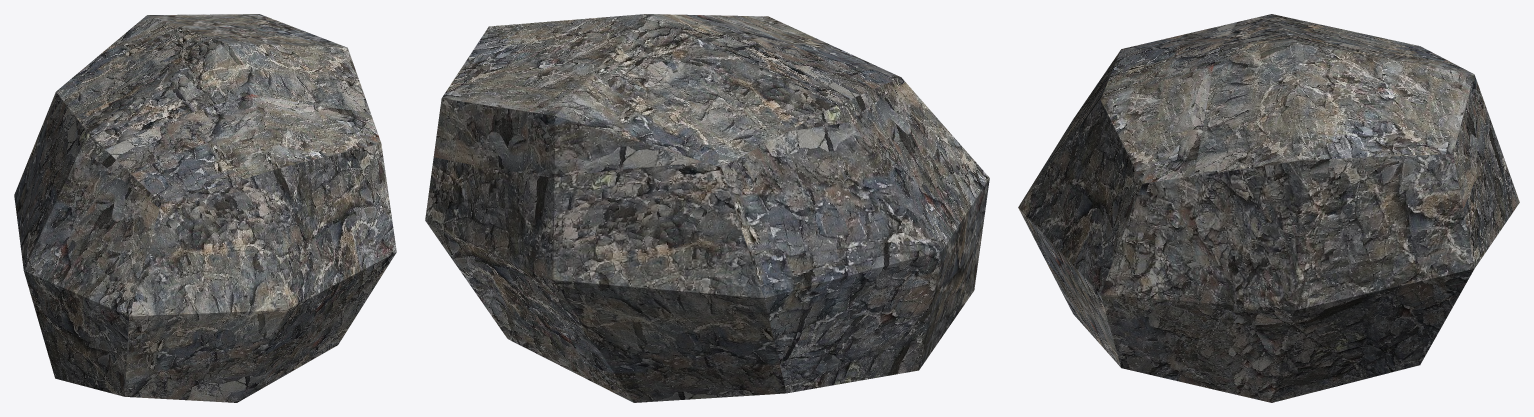
Rendered from rock.obj.
3 renders of one model, left to right at view 1: azimuth 30°, elevation 25°; view 2: azimuth 150°, elevation 25°; view 3: azimuth 270°, elevation 25°, orthographic. The views are drawn at different scales.
Parts seen in each view (by area): view 1: Cube; view 2: Cube; view 3: Cube.
Boxes of the visible parts, x1=… form: Cube: x1=14, y1=14, x2=396, y2=402; Cube: x1=425, y1=14, x2=989, y2=402; Cube: x1=1018, y1=14, x2=1519, y2=402.
Size of the model in its own units: 2.1 by 1.69 by 2.09.
